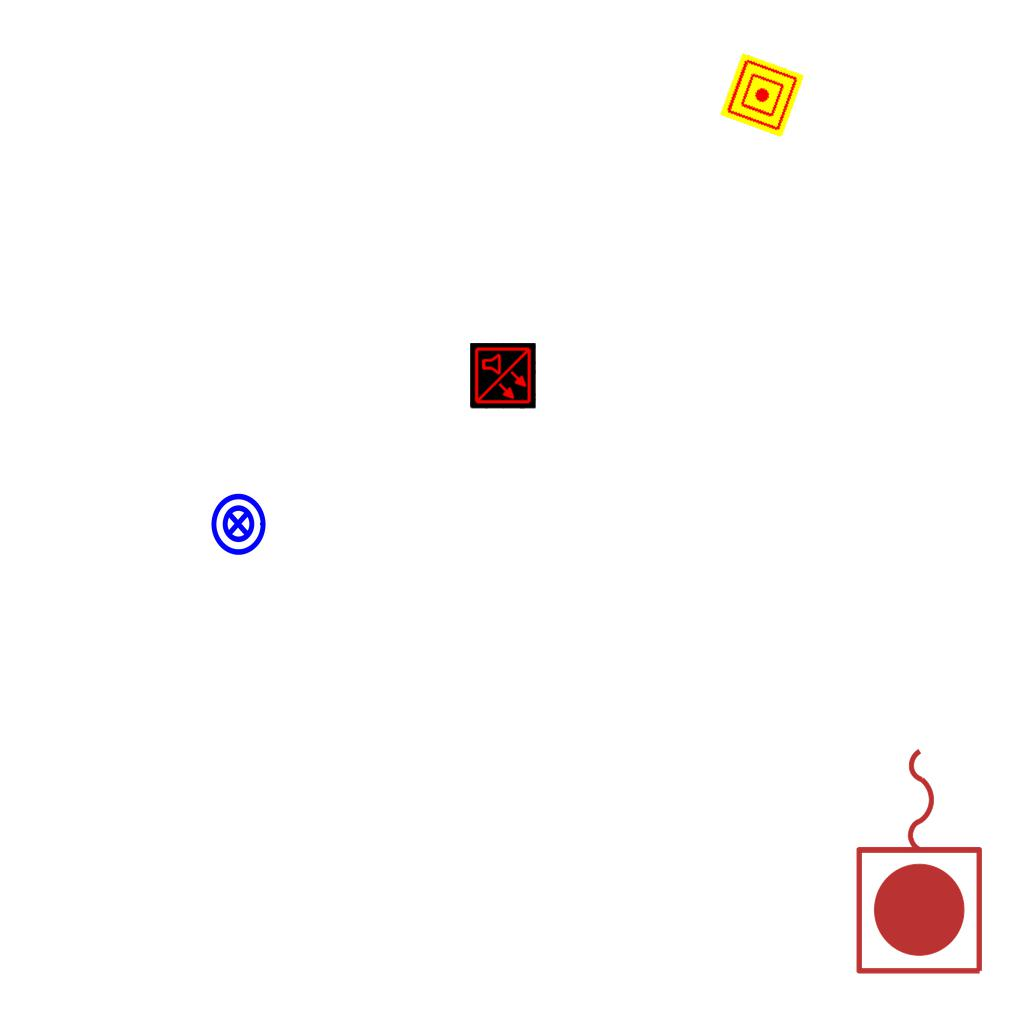NAM-Nichtautomatischer_Melder: (719, 52, 805, 138)
OKW_Multisensormelder_(Kombination_optischer_Rauch-Kahlenmonoxid_Waerme-Melder): (470, 343, 536, 409)
Taster_beleuchtet: (205, 491, 271, 557)
Zugtaster: (849, 738, 993, 982)
